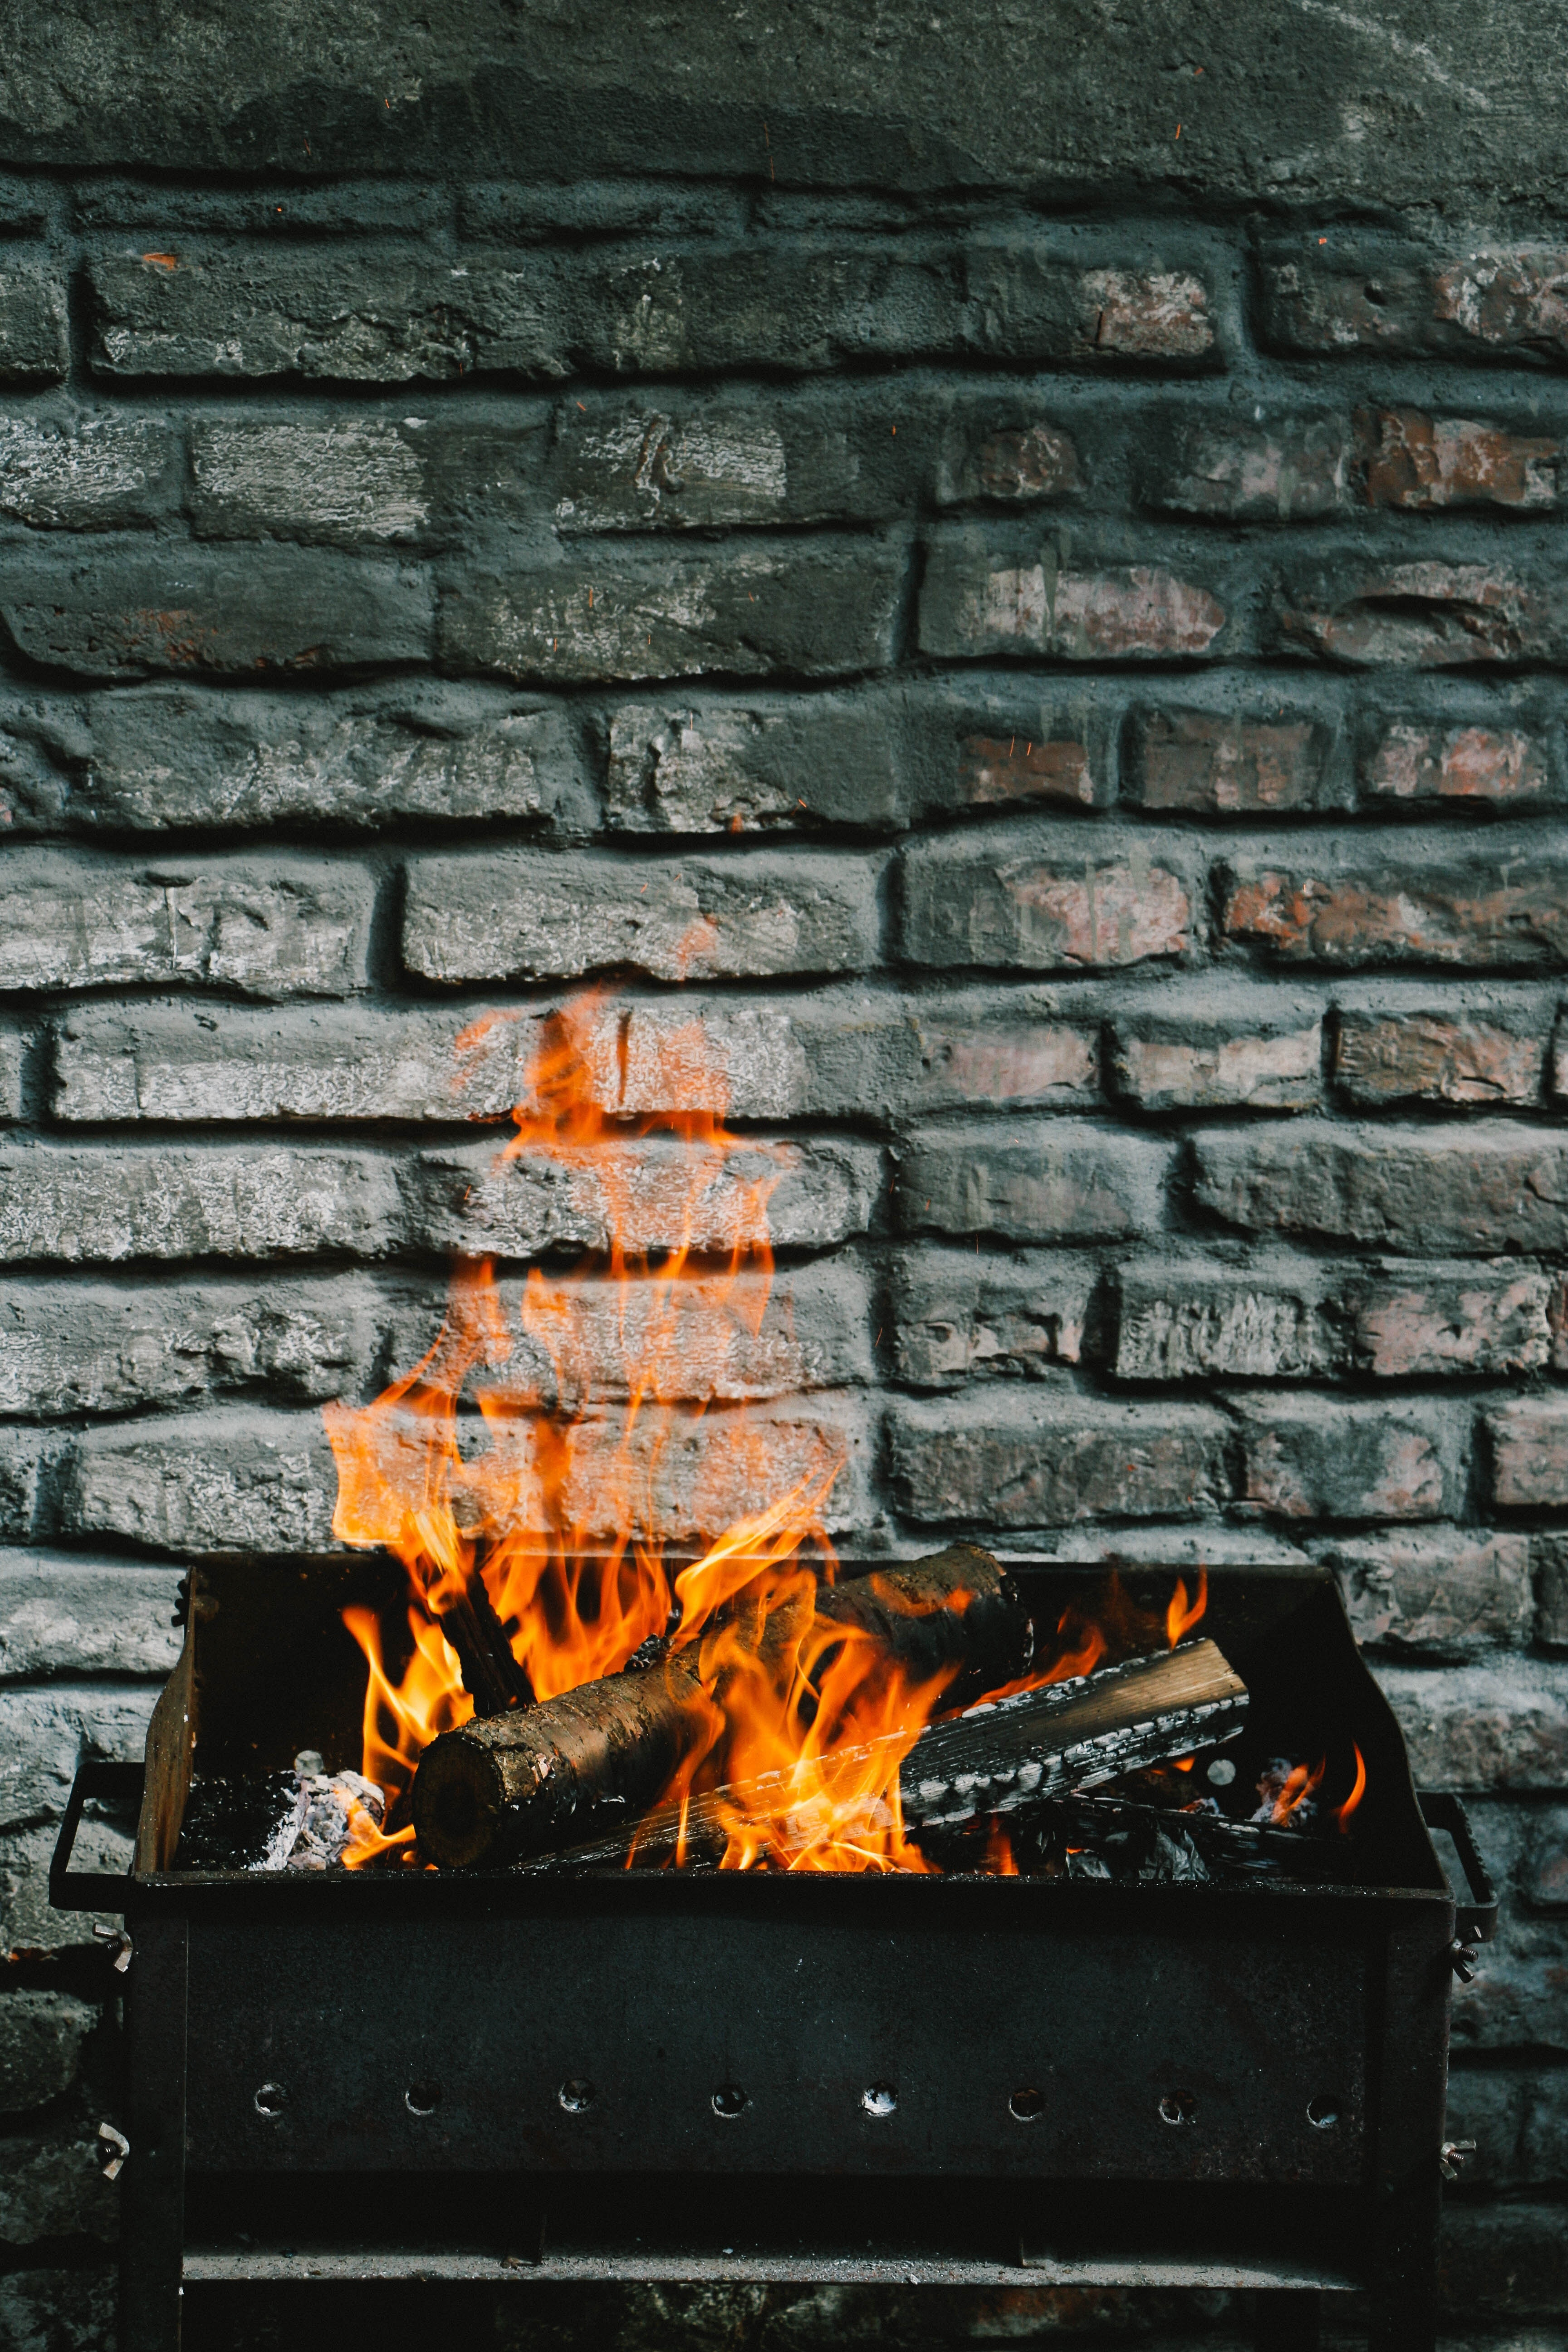fire: (310, 959, 1232, 1879)
